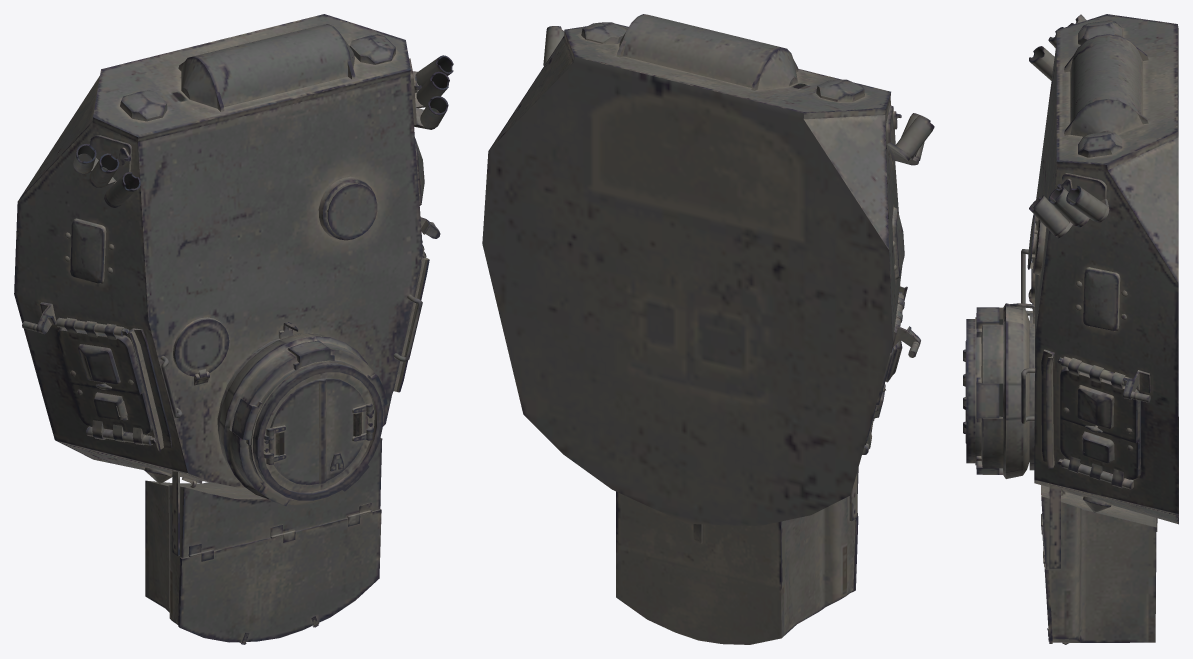
File: Turret_01.glb
3 renders of one model, left to right at view 1: azimuth 30°, elevation 25°; view 2: azimuth 150°, elevation 25°; view 3: azimuth 270°, elevation 25°, orthographic. The views are drawn at different scales.
Visible parts, largest first — view 1: set_0_group_0; view 2: set_0_group_0; view 3: set_0_group_0.
Boxes of the visible parts, <box> form: set_0_group_0: <box>14,14,453,644</box>; set_0_group_0: <box>482,14,934,644</box>; set_0_group_0: <box>963,14,1178,644</box>.
Bounding box in the file's own units: 2.14 × 2.82 × 0.9735.
1 material, 1 textured.
